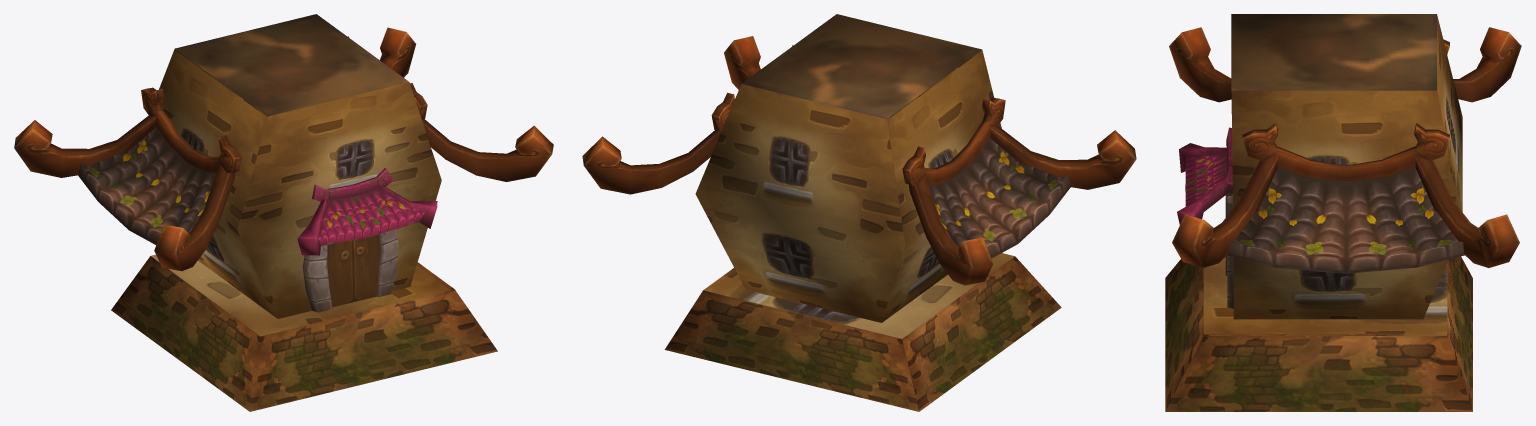
The model's file is building_house.FBX.
3 renders of one model, left to right at view 1: azimuth 30°, elevation 25°; view 2: azimuth 150°, elevation 25°; view 3: azimuth 270°, elevation 25°, orthographic. The views are drawn at different scales.
Parts seen in each view (by area): view 1: house; view 2: house; view 3: house.
Boxes of the visible parts, box(x1,y1,x2,y2) form: house: box(14, 14, 553, 411); house: box(582, 14, 1136, 411); house: box(1165, 14, 1521, 411).
Size of the model in its own units: 0.9604 by 0.6679 by 0.5989.
1 material, 1 textured.
